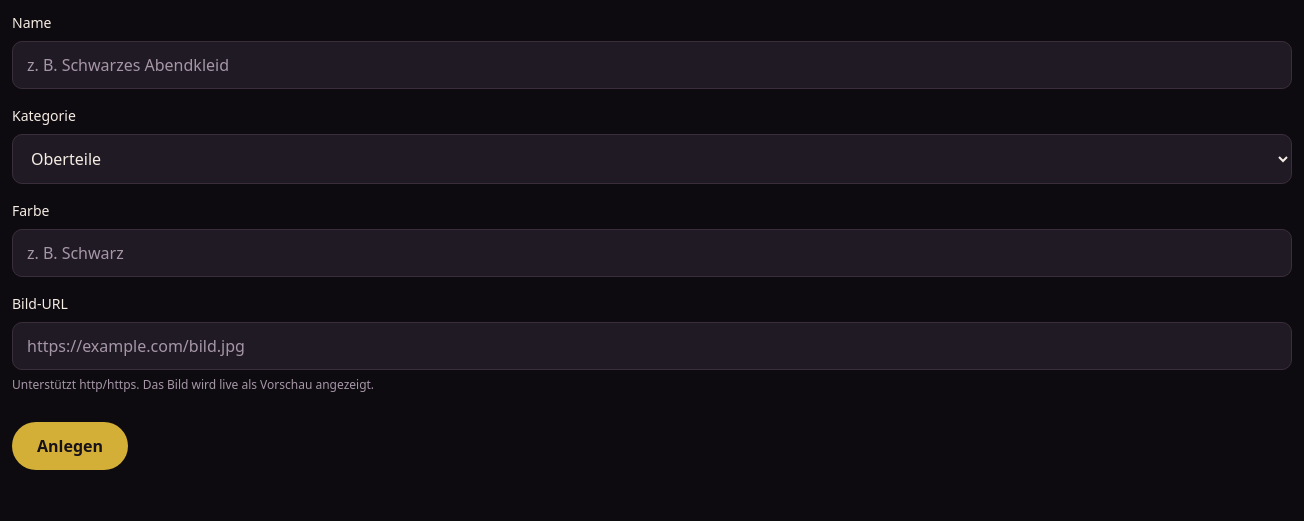
Test: ItemForm › shows a validation error when the name is empty
The width and height of the screenshot is (1304, 521).
Click the button "Anlegen": (70, 446) [12,422,128,470]
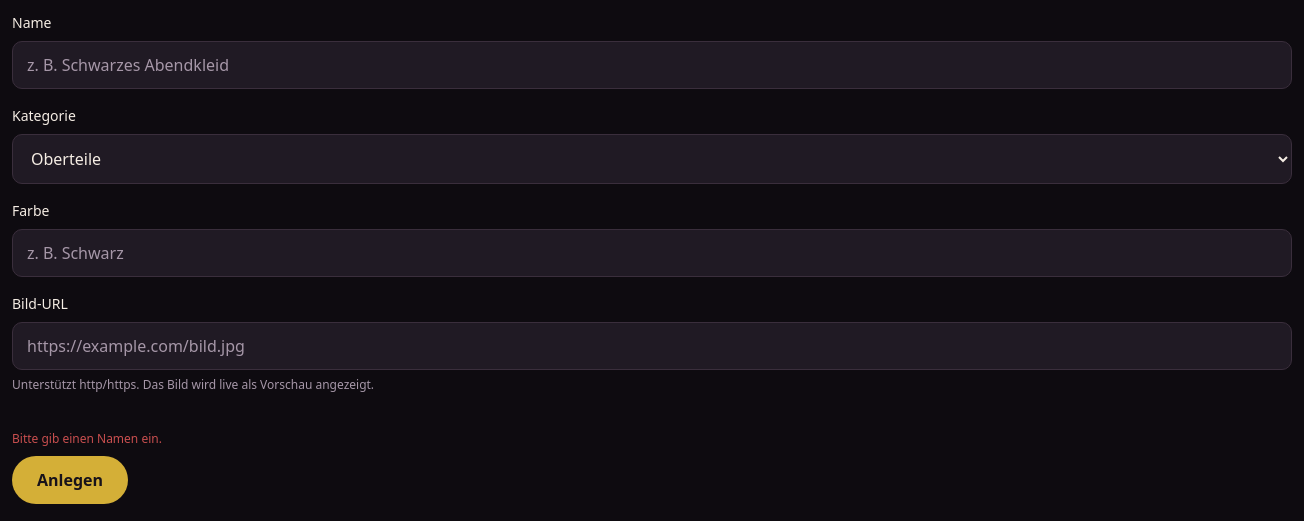
Result: the text "Bitte gib einen Namen ein." is shown at [12,430,162,447]
